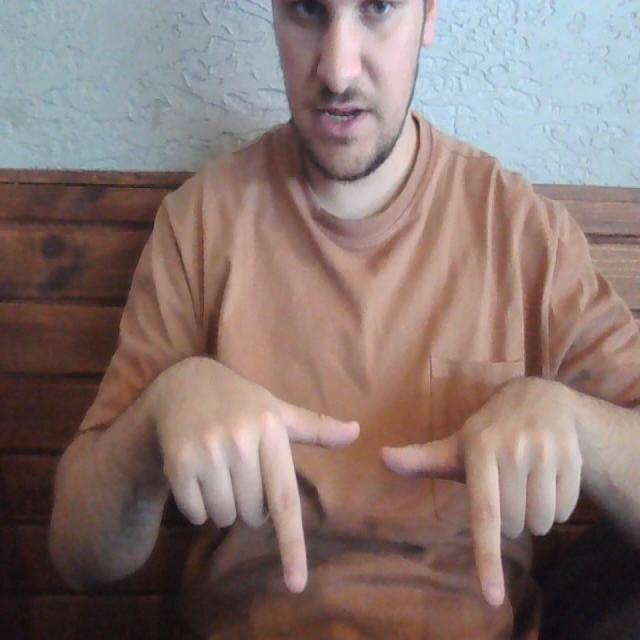Nerede: (257, 398, 512, 614)
